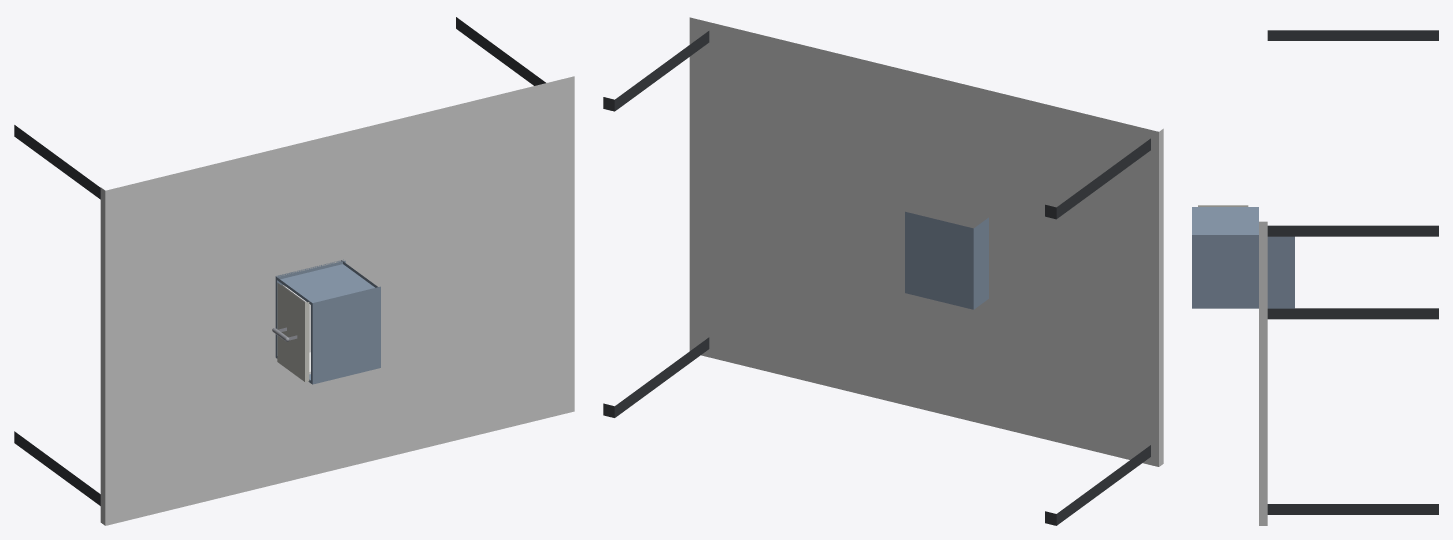
3 views of the same model, side by side, from view 1: azimuth 30°, elevation 25°; view 2: azimuth 150°, elevation 25°; view 3: azimuth 270°, elevation 25° (orthographic). The views are drawn at different scales.
Visible parts, largest first — view 1: s0, s1, s2; view 2: s0, s1; view 3: s0, s1.
Boxes of the visible parts, x1,y1,x2,y2 form: s0: (14, 17, 574, 525); s1: (275, 259, 380, 384); s2: (272, 282, 310, 382); s0: (603, 17, 1163, 525); s1: (905, 211, 988, 309); s0: (1259, 30, 1438, 525); s1: (1192, 207, 1294, 308).
Size of the model in its own units: 2.05 by 1.4 by 1.03.
